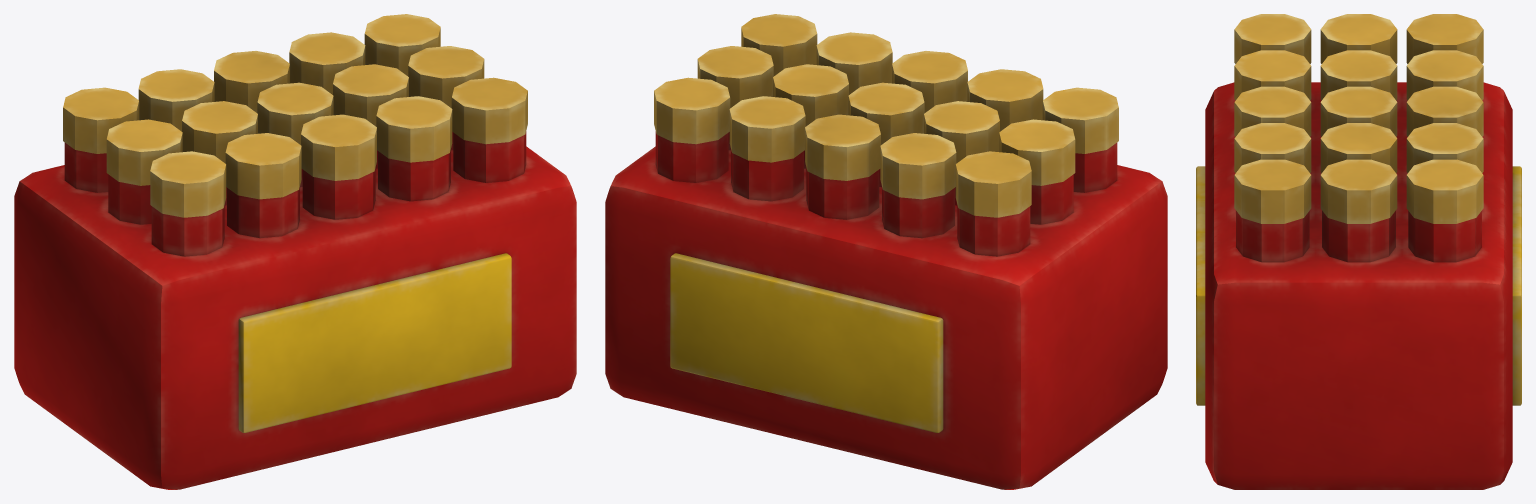
Rendered from pk_shellbox.glb.
The picture shows the model from 3 angles, left to right: view 1: azimuth 30°, elevation 25°; view 2: azimuth 150°, elevation 25°; view 3: azimuth 270°, elevation 25°; orthographic projection.
Visible parts, largest first — view 1: pk_shellbox; view 2: pk_shellbox; view 3: pk_shellbox.
Boxes of the visible parts, box(x1,y1,x2,y2) form: pk_shellbox: box(14, 14, 576, 489); pk_shellbox: box(605, 14, 1167, 489); pk_shellbox: box(1196, 14, 1521, 489).
Size of the model in its own units: 0.5 by 0.3313 by 0.3312.
1 material, 1 textured.
